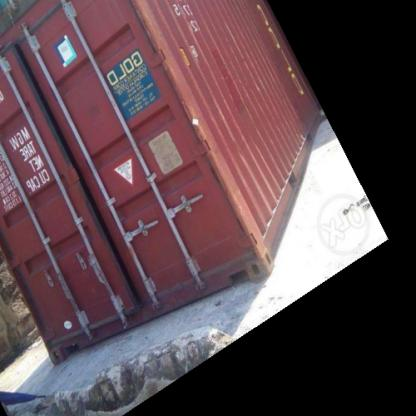Damage: (161, 259, 263, 299)
